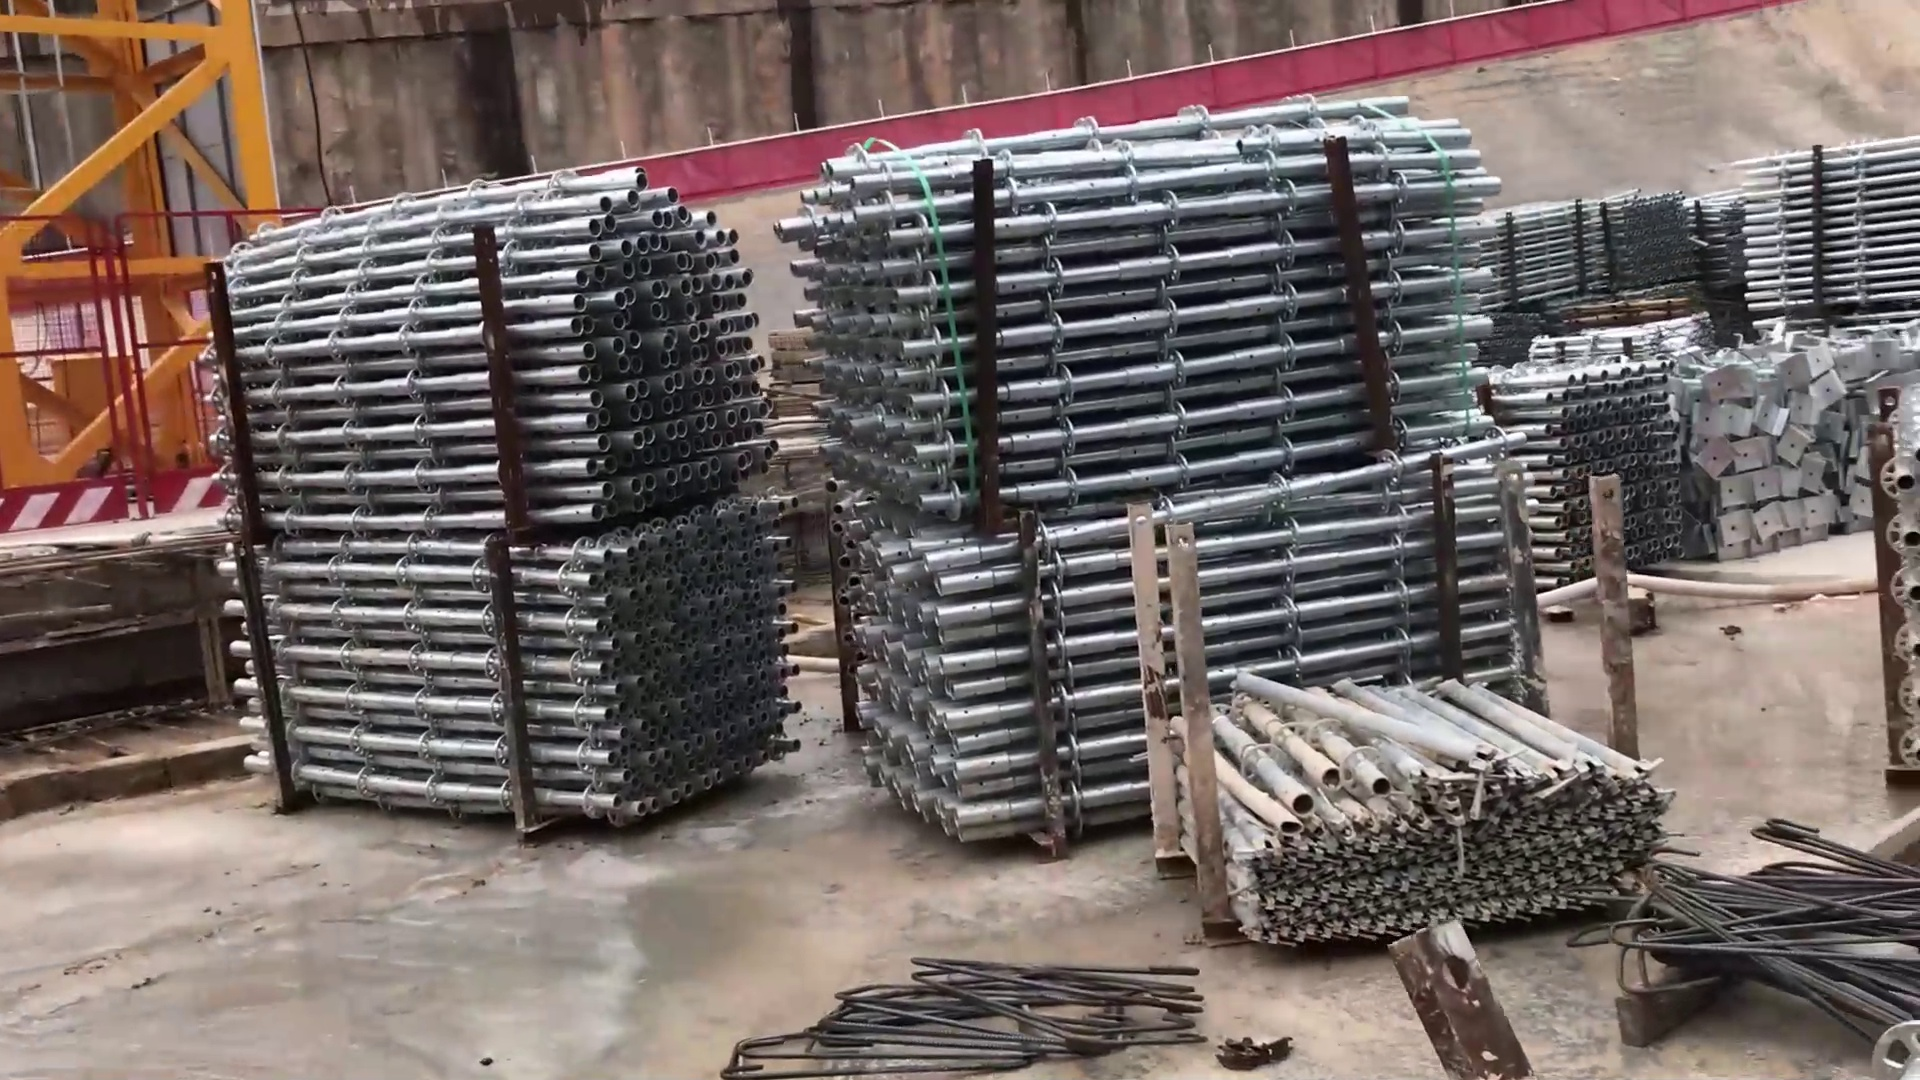rebar: (684, 949, 1218, 1080), (1625, 824, 1920, 1047)
scaffold: (781, 98, 1556, 688), (225, 164, 806, 833), (1159, 679, 1673, 963), (1677, 315, 1874, 560), (1519, 345, 1692, 593), (1726, 113, 1913, 318), (1491, 178, 1704, 313)
